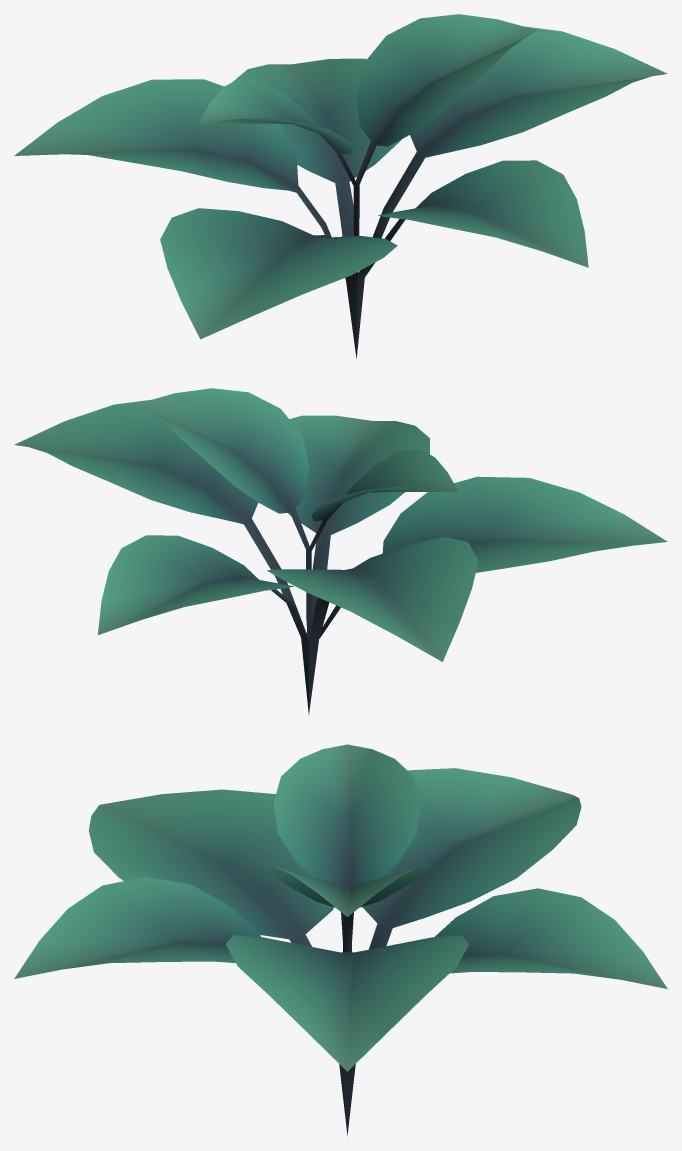
Rendered from S_Hosta.fbx.
The picture shows the model from 3 angles, top to bottom: view 1: azimuth 30°, elevation 25°; view 2: azimuth 150°, elevation 25°; view 3: azimuth 270°, elevation 25°; orthographic projection. The views are drawn at different scales.
Parts seen in each view (by area): view 1: Hosta_GEO; view 2: Hosta_GEO; view 3: Hosta_GEO.
Part boxes in pixels (x1,y1,x2,y2): Hosta_GEO: (14,14,667,358); Hosta_GEO: (14,388,667,714); Hosta_GEO: (14,744,667,1136).
Bounding box in the file's own units: 20.44 × 10.01 × 17.96.
